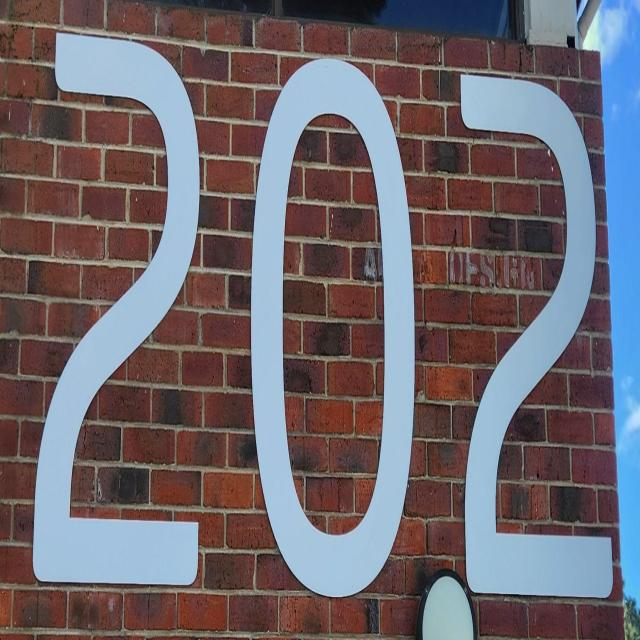character: (31, 28, 202, 592), (249, 51, 418, 602), (458, 69, 616, 605)
